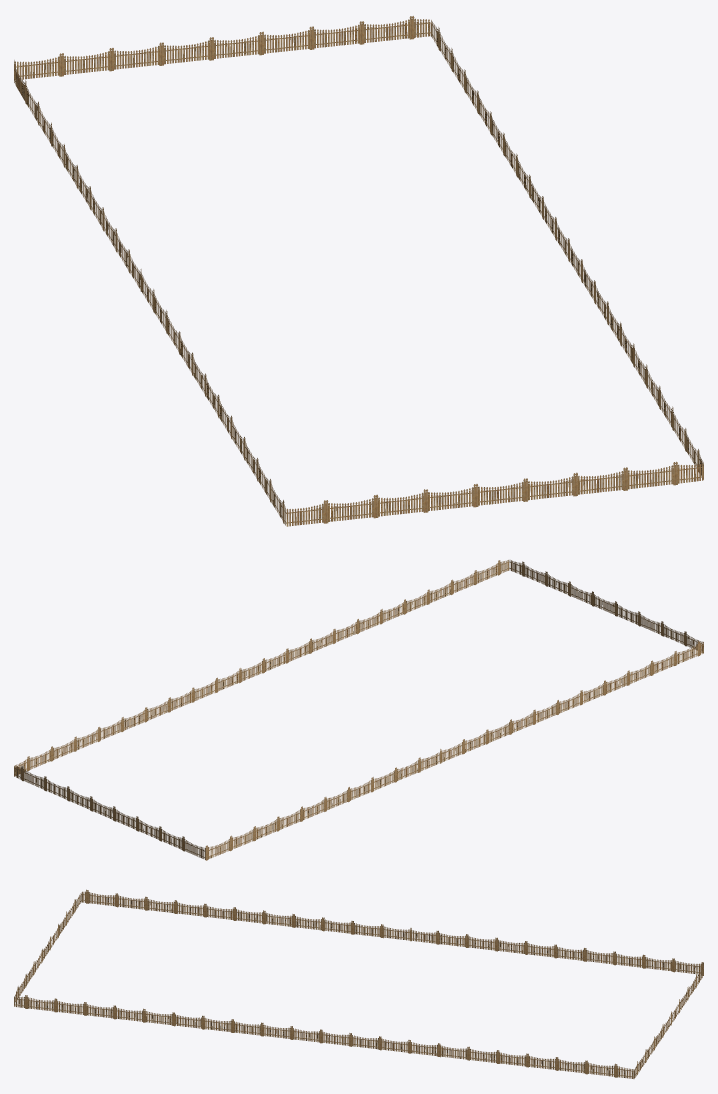
File: fence_50_31_0040507_16.dae
The picture shows the model from 3 angles, top to bottom: view 1: azimuth 30°, elevation 25°; view 2: azimuth 150°, elevation 25°; view 3: azimuth 270°, elevation 25°; orthographic projection. The views are drawn at different scales.
Visible parts, largest first — view 1: MainNode; view 2: MainNode; view 3: MainNode.
Boxes of the visible parts, x1=… form: MainNode: x1=14, y1=16, x2=703, y2=526; MainNode: x1=14, y1=560, x2=703, y2=860; MainNode: x1=14, y1=889, x2=703, y2=1078.
Size of the model in its own units: 41.04 by 67.69 by 1.5.
Materials: 1 (1 with a texture image).
